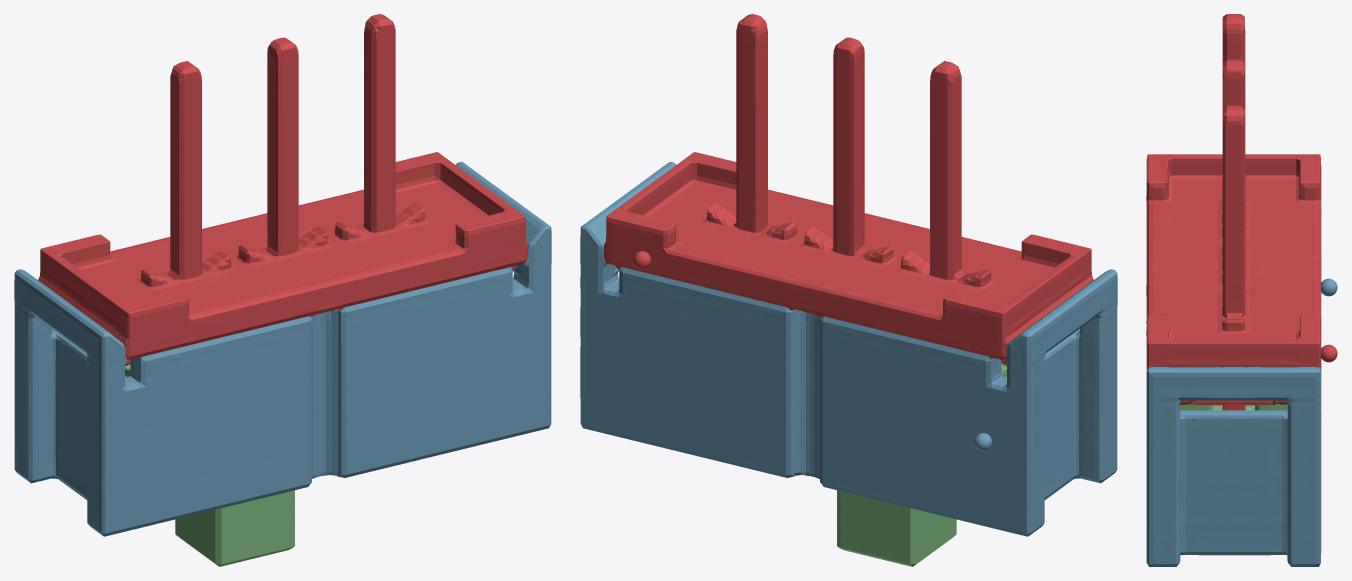
Rendered from ours.glb.
3 views of the same model, side by side, from view 1: azimuth 30°, elevation 25°; view 2: azimuth 150°, elevation 25°; view 3: azimuth 270°, elevation 25° (orthographic). The views are drawn at different scales.
Visible parts, largest first — view 1: g1, g0, g2; view 2: g1, g0, g2; view 3: g0, g1, g2.
Part boxes in pixels (box(x1,y1,x2,y2)): g1: box(14, 161, 551, 536); g0: box(38, 14, 527, 365); g2: box(125, 364, 294, 566); g1: box(580, 161, 1117, 536); g0: box(604, 14, 1093, 365); g2: box(837, 363, 1006, 566); g0: box(1146, 14, 1337, 410); g1: box(1146, 164, 1337, 566); g2: box(1180, 403, 1287, 410).
Size of the model in its own units: 1.83 by 1.9 by 0.6883.
